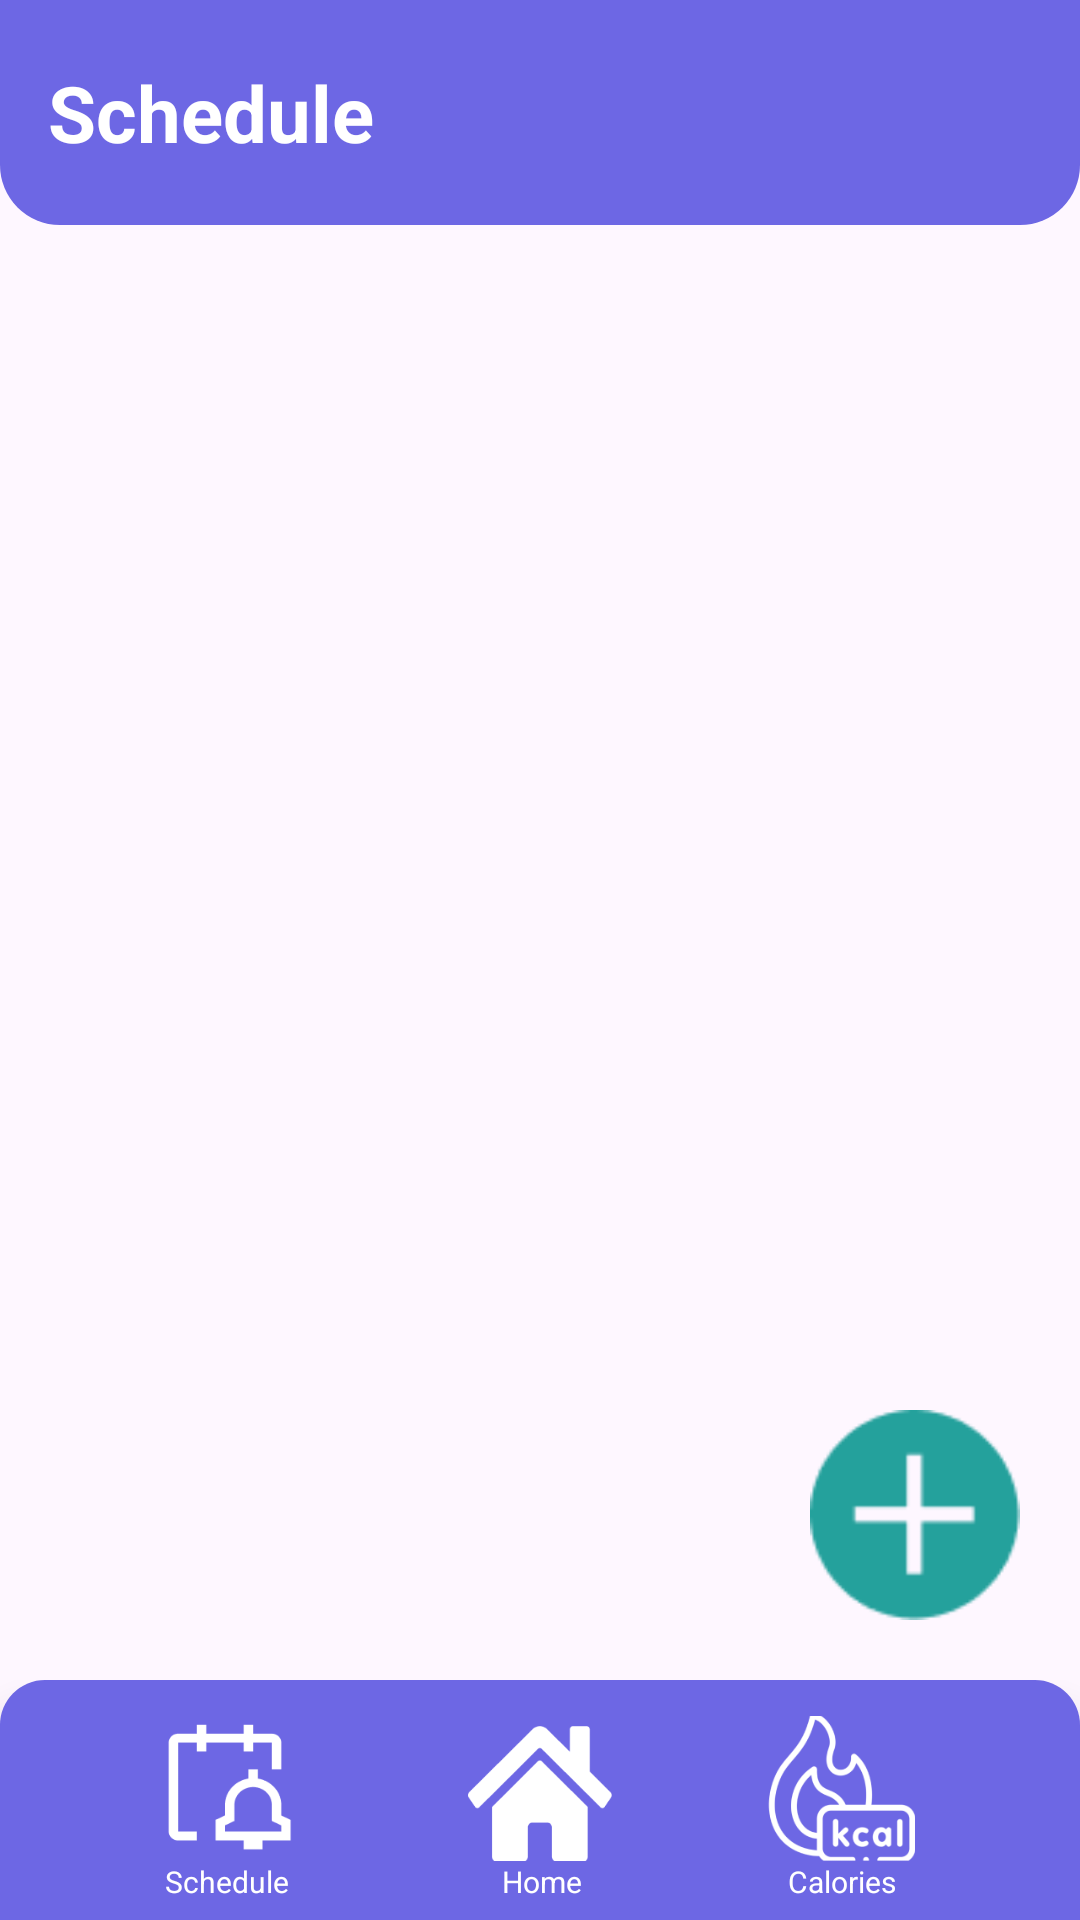

Screen size 1080 x 1920. Icon name, then its box in pixels as {"x1": x1, "y1": y1, "x2": x2, "y2": y2}:
add: {"x1": 810, "y1": 1410, "x2": 1020, "y2": 1620}
